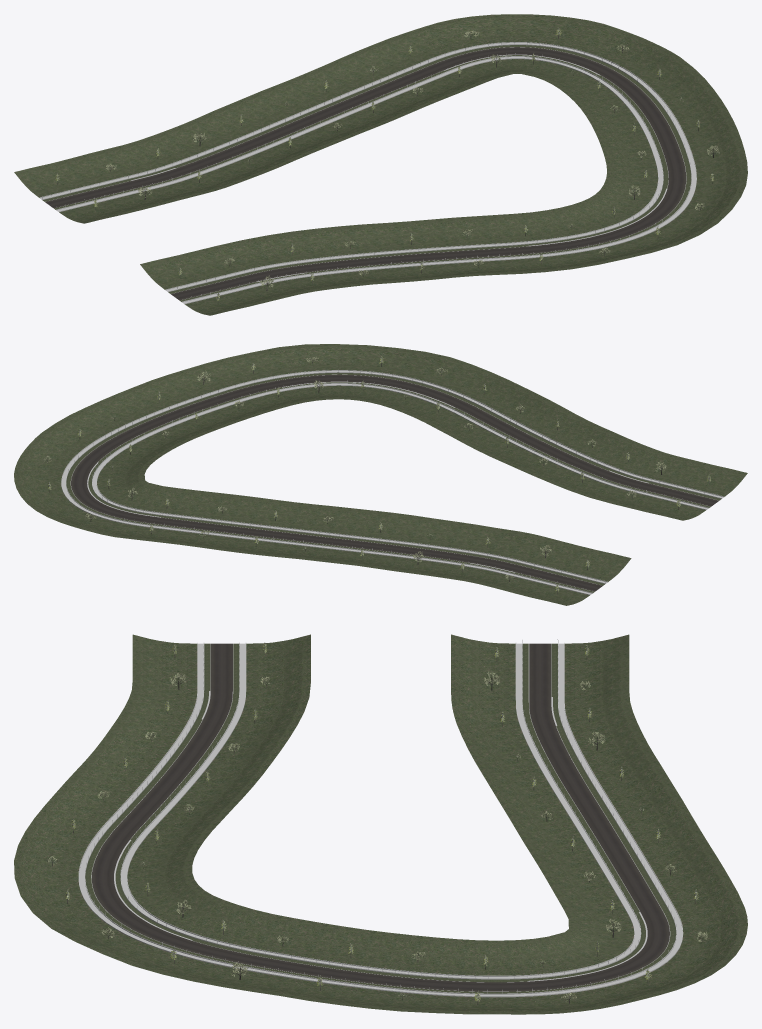
3 views of the same model, one above another, from view 1: azimuth 30°, elevation 25°; view 2: azimuth 150°, elevation 25°; view 3: azimuth 270°, elevation 25° (orthographic). The views are drawn at different scales.
Visible parts, largest first — view 1: Grass, Road, Track, Trees; view 2: Grass, Road, Track, Trees; view 3: Grass, Road, Track, Trees.
Part boxes in pixels (x1,y1,x2,y2): Grass: (14,14,747,315); Road: (45,47,686,300); Track: (39,41,696,304); Trees: (55,27,719,303); Grass: (14,344,747,605); Road: (71,374,718,591); Track: (61,369,724,595); Trees: (43,355,710,594); Grass: (14,634,747,1014); Road: (92,643,669,991); Track: (78,639,683,997); Trees: (47,642,707,1004).
Size of the model in its own units: 70771 by 1702 by 57609.
